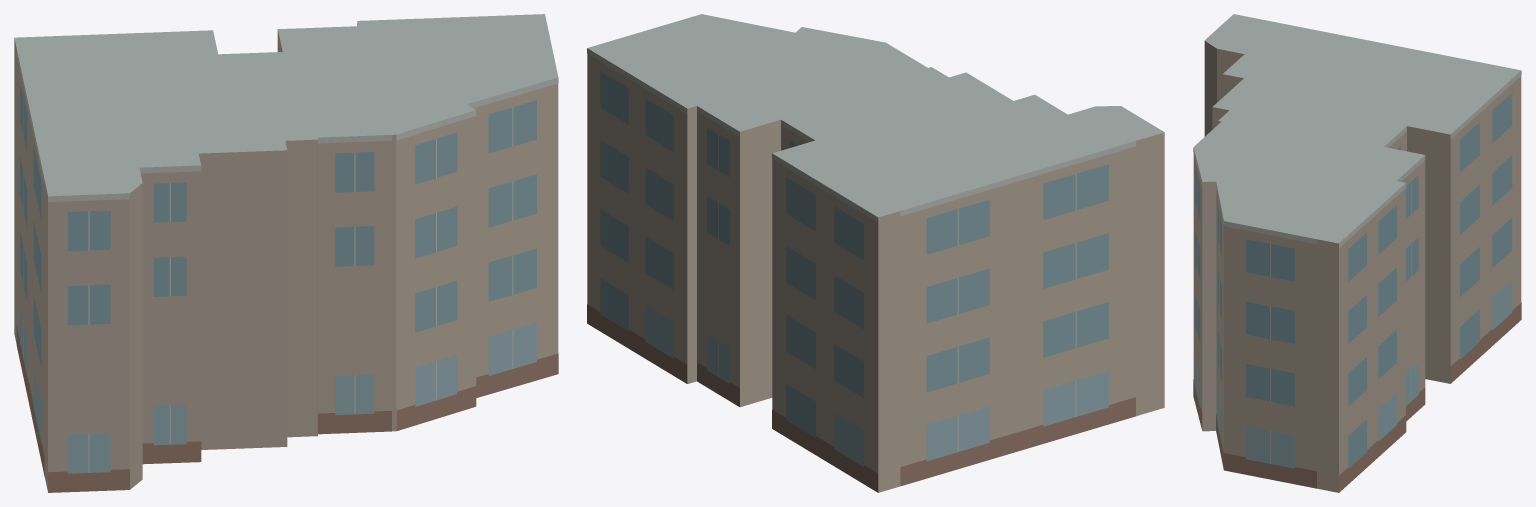
Rendered from survey-upis-32929930.glb.
The picture shows the model from 3 angles, left to right: view 1: azimuth 30°, elevation 25°; view 2: azimuth 150°, elevation 25°; view 3: azimuth 270°, elevation 25°; orthographic projection. The views are drawn at different scales.
Parts seen in each view (by area): view 1: survey-upis-32929930.tmp; view 2: survey-upis-32929930.tmp; view 3: survey-upis-32929930.tmp.
Boxes of the visible parts, box(x1,y1,x2,y2) form: survey-upis-32929930.tmp: box(14, 14, 558, 492); survey-upis-32929930.tmp: box(587, 14, 1164, 492); survey-upis-32929930.tmp: box(1193, 14, 1521, 492).
Bounding box in the file's own units: 24.09 × 12.2 × 14.55.
